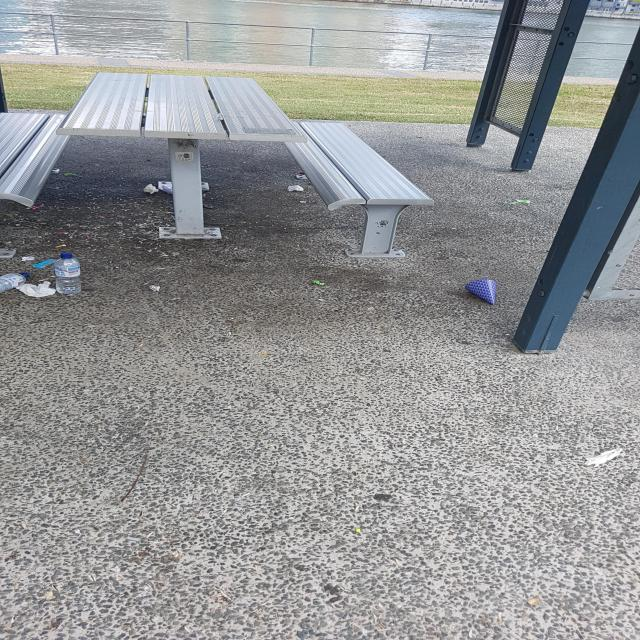litter: (451, 314, 528, 334), (494, 86, 539, 100), (503, 331, 528, 348)
